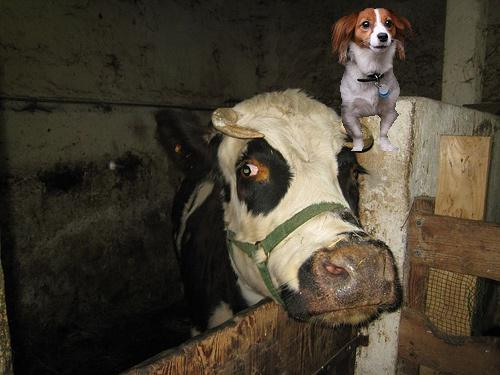tampered: (331, 9, 413, 151)
